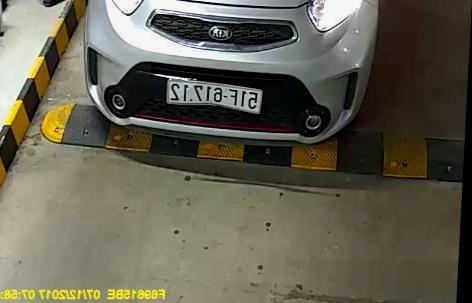License_Plate: (161, 80, 265, 115)
